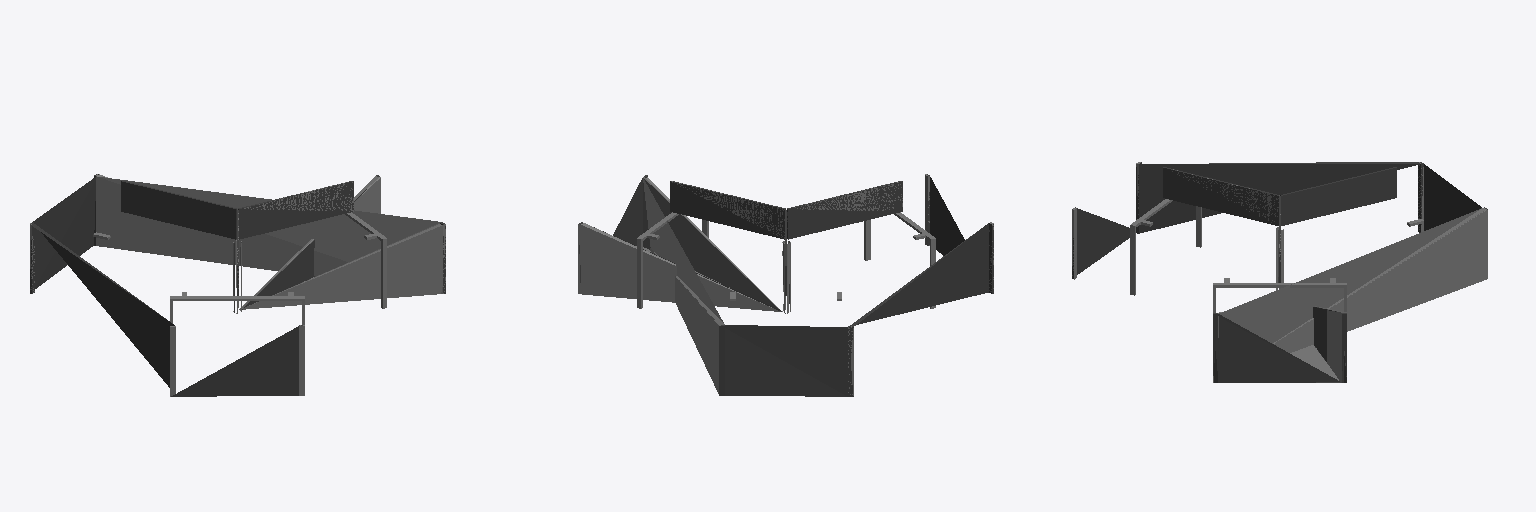
3 renders of one model, left to right at view 1: azimuth 30°, elevation 25°; view 2: azimuth 150°, elevation 25°; view 3: azimuth 270°, elevation 25°, orthographic.
Visible parts, largest first — view 1: leg_style_o-leg, 3_person_et; view 2: 3_person_et, leg_style_o-leg, screens; view 3: 3_person_et, leg_style_o-leg.
Boxes of the visible parts, x1=… form: leg_style_o-leg: x1=30, y1=174, x2=445, y2=396; 3_person_et: x1=30, y1=174, x2=445, y2=396; 3_person_et: x1=579, y1=174, x2=993, y2=396; leg_style_o-leg: x1=578, y1=174, x2=993, y2=395; screens: x1=787, y1=182, x2=902, y2=228; 3_person_et: x1=1072, y1=162, x2=1487, y2=382; leg_style_o-leg: x1=1072, y1=162, x2=1487, y2=382.
Size of the model in its own units: 129 by 40.5 by 149.